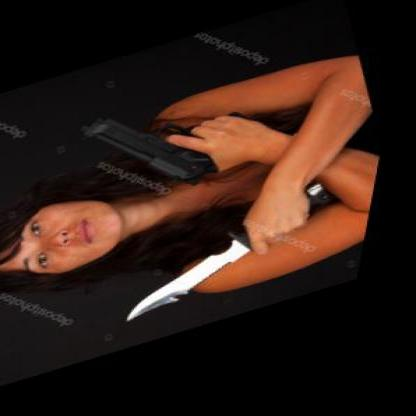knife: (105, 205, 348, 333)
